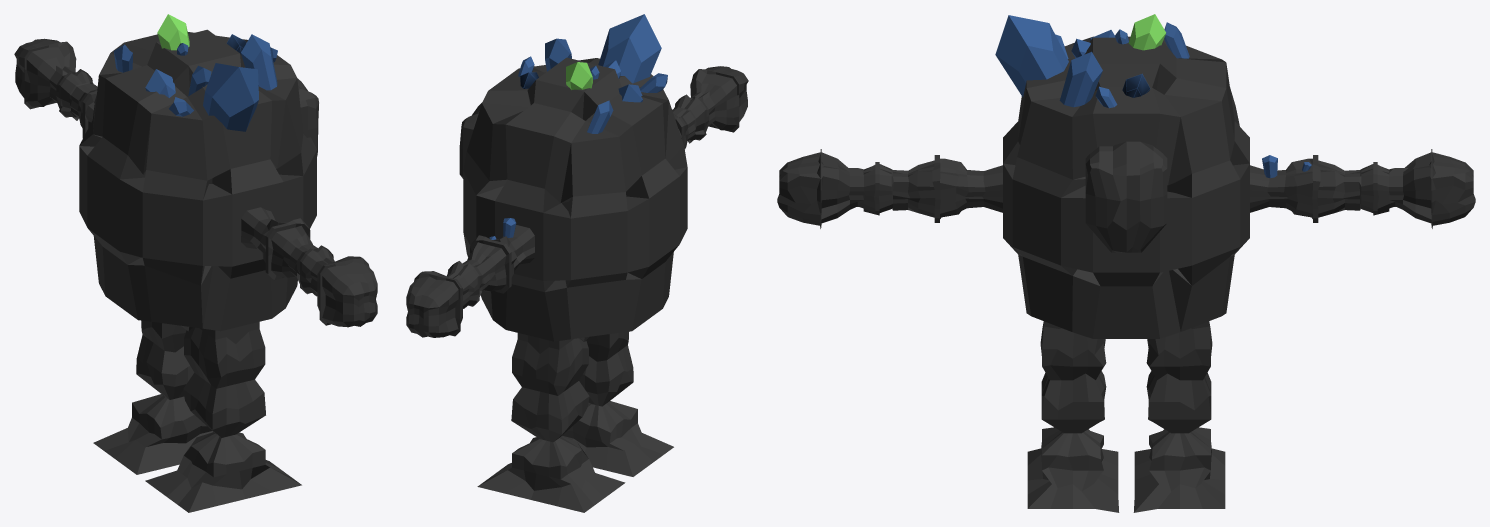
The model's file is stblend.fbx.
The picture shows the model from 3 angles, left to right: view 1: azimuth 30°, elevation 25°; view 2: azimuth 150°, elevation 25°; view 3: azimuth 270°, elevation 25°; orthographic projection. The views are drawn at different scales.
Visible parts, largest first — view 1: KÖRPER, Beine, arme, KRISTALL, KRISTALL.009, FACE, KRISTALL.003, KRISTALL.008, KRISTALL.011, KRISTALL.002; view 2: KÖRPER, Beine, arme, KRISTALL, KRISTALL.003, FACE, KRISTALL.009, KRISTALL.011; view 3: KÖRPER, Beine, arme, FACE, KRISTALL, KRISTALL.009, KRISTALL.003.
Part boxes in pixels (bbox=[...]): KÖRPER: bbox=[79, 29, 316, 331]; Beine: bbox=[93, 320, 301, 512]; arme: bbox=[14, 38, 377, 327]; KRISTALL: bbox=[203, 63, 258, 131]; KRISTALL.009: bbox=[241, 34, 277, 90]; FACE: bbox=[297, 78, 318, 156]; KRISTALL.003: bbox=[157, 14, 189, 50]; KRISTALL.008: bbox=[145, 69, 175, 97]; KRISTALL.011: bbox=[113, 44, 132, 72]; KRISTALL.002: bbox=[188, 65, 211, 96]; KÖRPER: bbox=[463, 57, 687, 341]; Beine: bbox=[477, 331, 673, 512]; arme: bbox=[406, 66, 748, 337]; KRISTALL: bbox=[598, 14, 661, 83]; KRISTALL.003: bbox=[566, 62, 592, 90]; FACE: bbox=[459, 103, 481, 178]; KRISTALL.009: bbox=[545, 38, 571, 71]; KRISTALL.011: bbox=[587, 100, 613, 133]; KÖRPER: bbox=[1003, 36, 1249, 338]; Beine: bbox=[1027, 321, 1225, 512]; arme: bbox=[777, 149, 1475, 228]; FACE: bbox=[1085, 141, 1167, 252]; KRISTALL: bbox=[995, 15, 1068, 96]; KRISTALL.009: bbox=[1059, 51, 1102, 107]; KRISTALL.003: bbox=[1128, 14, 1165, 50].
Bounding box in the file's own units: 1247 × 2549 × 3489.
